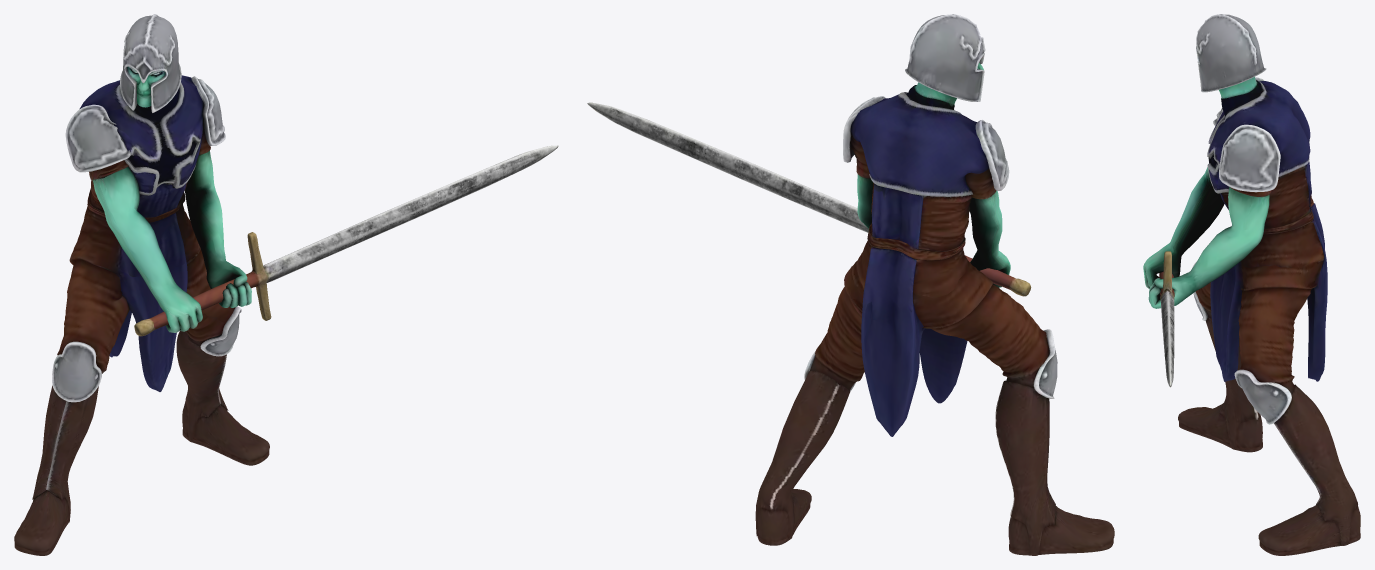
The model's file is MZ4250 - Demos Magen_greatsword.glb.
3 views of the same model, side by side, from view 1: azimuth 30°, elevation 25°; view 2: azimuth 150°, elevation 25°; view 3: azimuth 270°, elevation 25° (orthographic). The views are drawn at different scales.
Parts seen in each view (by area): view 1: Demos Magen.002; view 2: Demos Magen.002; view 3: Demos Magen.002.
Boxes of the visible parts, <box> form: Demos Magen.002: <box>14,14,558,555</box>; Demos Magen.002: <box>587,14,1114,555</box>; Demos Magen.002: <box>1143,14,1360,555</box>.
Size of the model in its own units: 201 by 179 by 74.71.
Materials: 2 (2 with a texture image).
